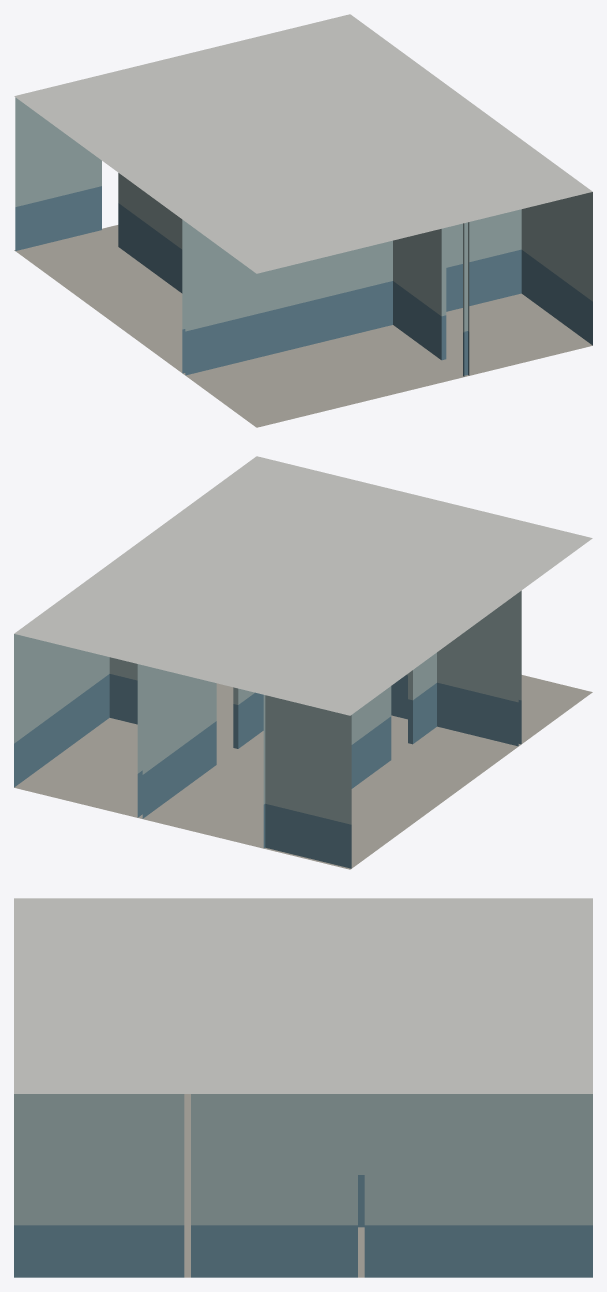
The model's file is chunk_4_1.glb.
3 renders of one model, top to bottom at view 1: azimuth 30°, elevation 25°; view 2: azimuth 150°, elevation 25°; view 3: azimuth 270°, elevation 25°, orthographic. The views are drawn at different scales.
Visible parts, largest first — view 1: chunk_4_1; view 2: chunk_4_1; view 3: chunk_4_1.
Part boxes in pixels (x1,y1,x2,y2): chunk_4_1: (14, 14, 592, 427); chunk_4_1: (14, 456, 592, 869); chunk_4_1: (14, 898, 592, 1277).
Size of the model in its own units: 9.6 by 4.2 by 12.
